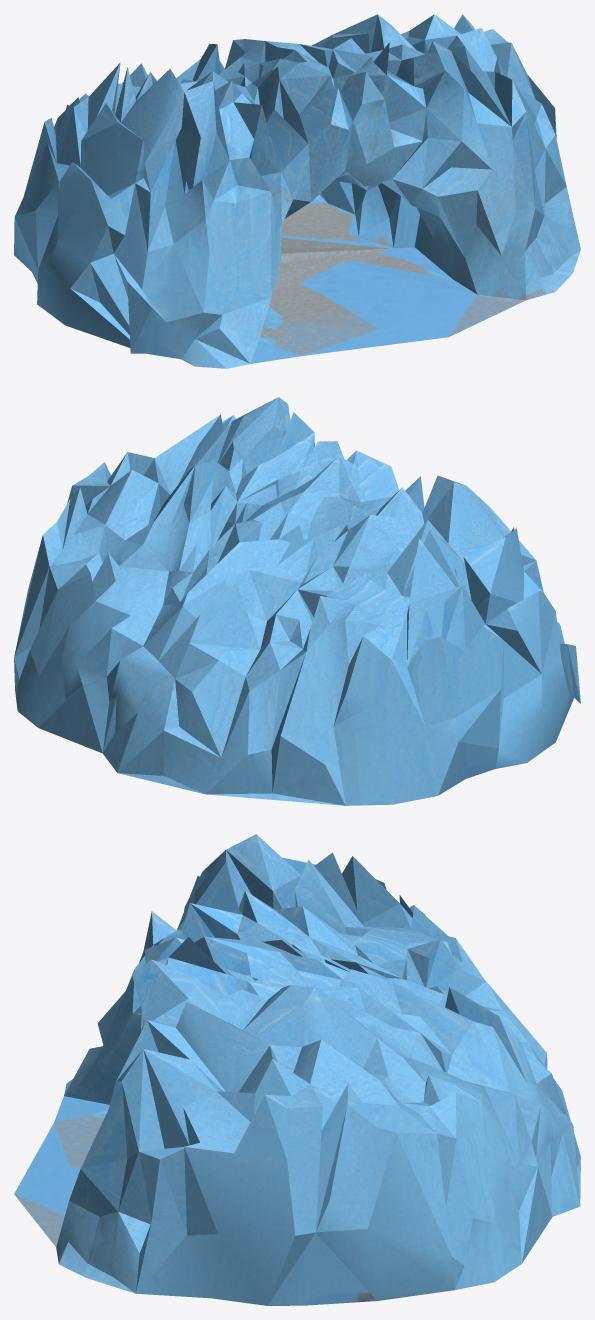
File: cueva_meshy.glb
3 renders of one model, top to bottom at view 1: azimuth 30°, elevation 25°; view 2: azimuth 150°, elevation 25°; view 3: azimuth 270°, elevation 25°, orthographic. The views are drawn at different scales.
Visible parts, largest first — view 1: output_unwrapped; view 2: output_unwrapped; view 3: output_unwrapped.
Part boxes in pixels (box(x1,y1,x2,y2)): output_unwrapped: box(14, 14, 580, 368); output_unwrapped: box(14, 397, 580, 805); output_unwrapped: box(14, 834, 580, 1305).
Size of the model in its own units: 1.89 by 0.8608 by 1.65.
1 material, 1 textured.
